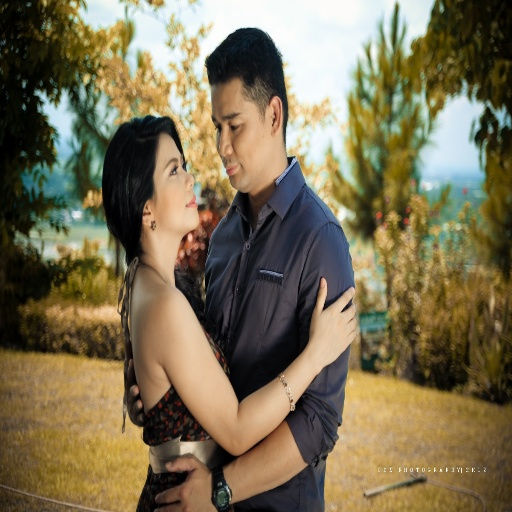hand: (298, 275, 357, 397), (154, 451, 218, 510), (122, 356, 145, 430)
